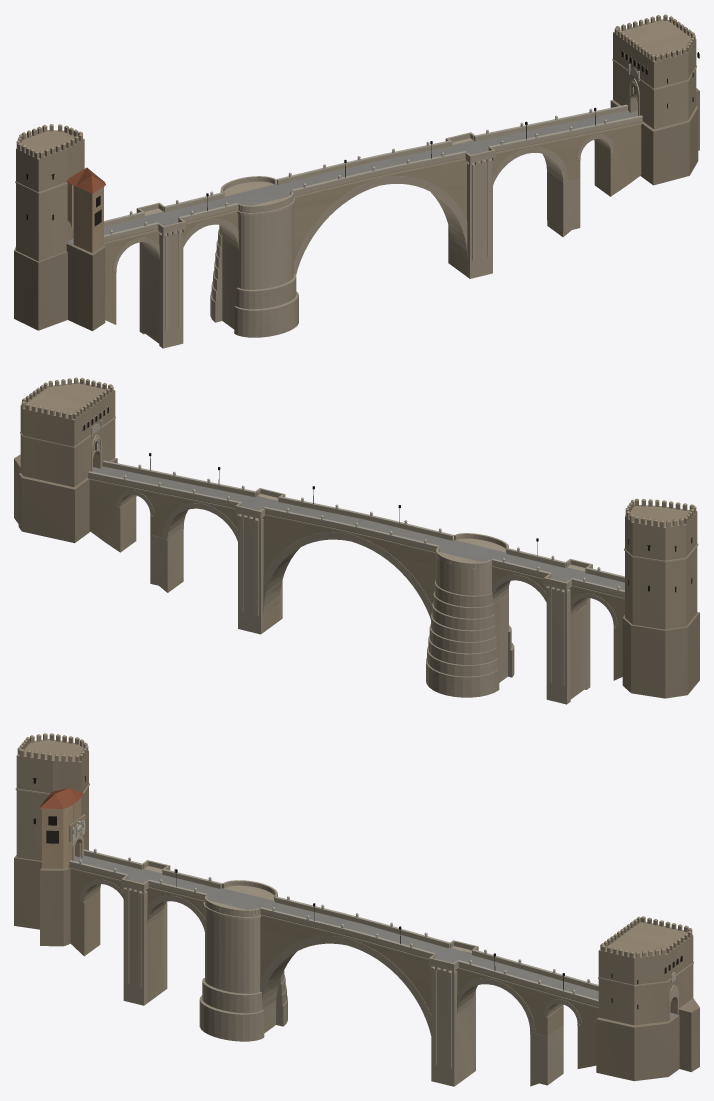
3 renders of one model, top to bottom at view 1: azimuth 30°, elevation 25°; view 2: azimuth 150°, elevation 25°; view 3: azimuth 330°, elevation 25°, orthographic.
Parts seen in each view (by area): view 1: puente_de_san_martin; view 2: puente_de_san_martin; view 3: puente_de_san_martin.
Part boxes in pixels (box(x1,y1,x2,y2)): puente_de_san_martin: box(14, 14, 699, 348); puente_de_san_martin: box(14, 377, 699, 704); puente_de_san_martin: box(14, 733, 699, 1086).
Size of the model in its own units: 157 by 49.62 by 18.86.
